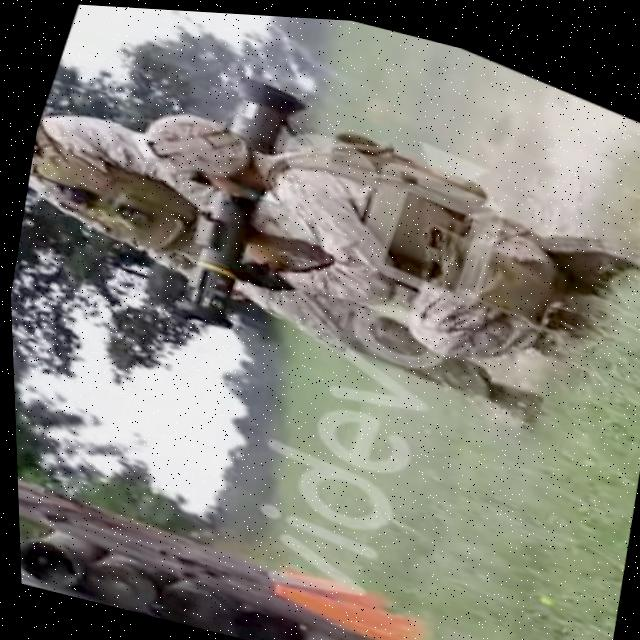rocket: (155, 61, 319, 344)
